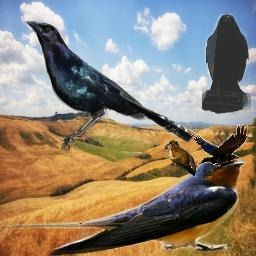Crow: (25, 21, 194, 151), (202, 14, 251, 114), (187, 124, 248, 167)
Cuckoo: (165, 140, 196, 177)
Swallow: (1, 151, 246, 256)
